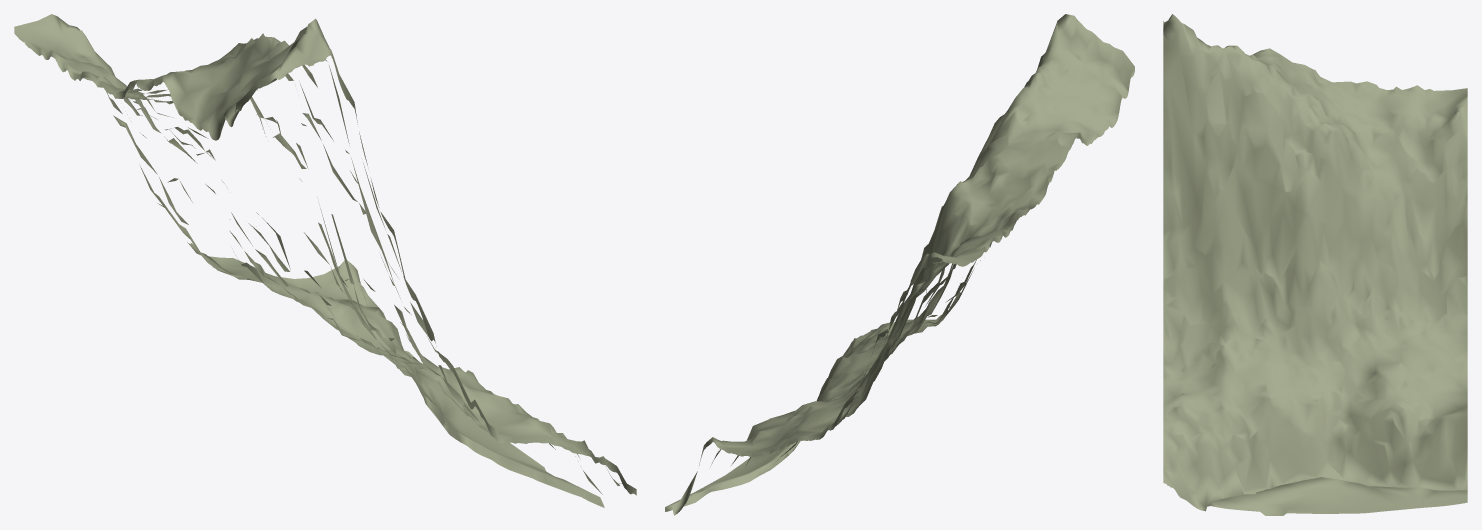
File: terrain_r1_c0_lod1.glb
3 renders of one model, left to right at view 1: azimuth 30°, elevation 25°; view 2: azimuth 150°, elevation 25°; view 3: azimuth 270°, elevation 25°, orthographic. The views are drawn at different scales.
Visible parts, largest first — view 1: terrain_r1_c0_lod1; view 2: terrain_r1_c0_lod1; view 3: terrain_r1_c0_lod1.
Boxes of the visible parts, x1,y1,x2,y2 form: terrain_r1_c0_lod1: (14, 14, 636, 507); terrain_r1_c0_lod1: (665, 14, 1134, 515); terrain_r1_c0_lod1: (1163, 14, 1467, 515).
Size of the model in its own units: 50 by 72.15 by 50.
